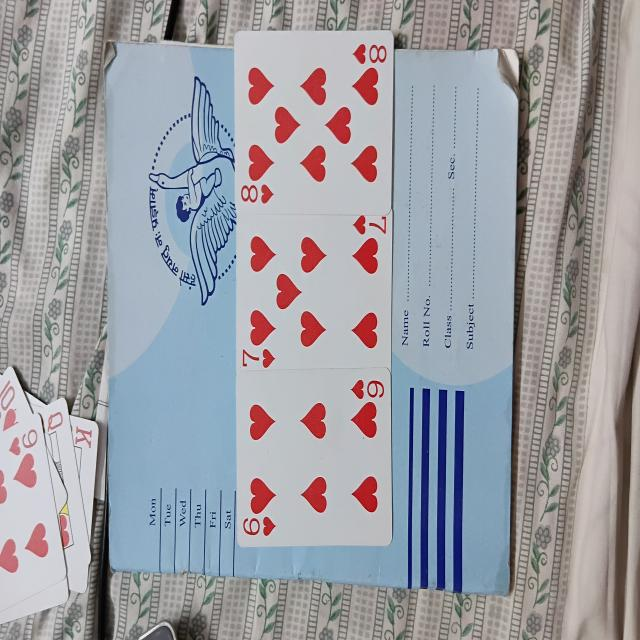6H: (236, 376, 392, 540)
7H: (238, 216, 393, 375)
8H: (237, 31, 391, 212)
